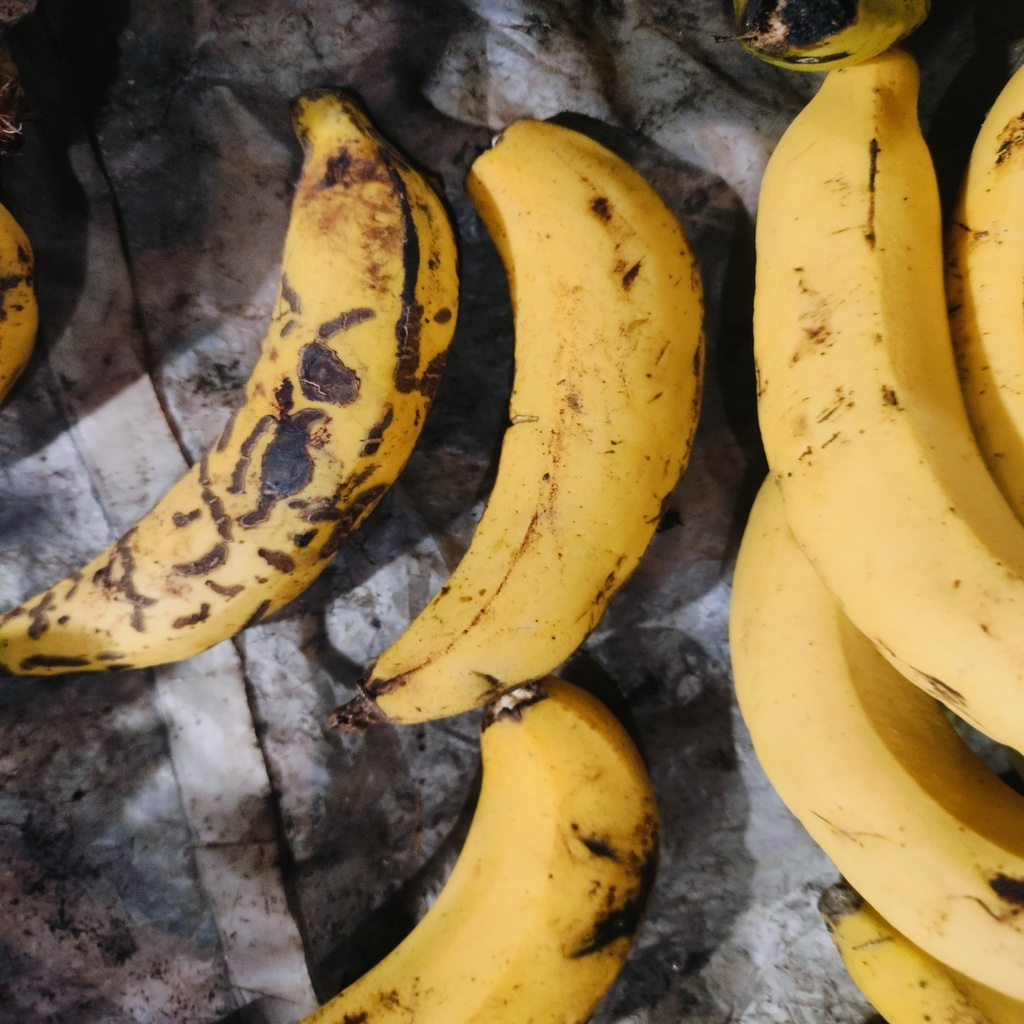healthy: (377, 117, 707, 729)
unhealthy: (12, 94, 457, 673)
